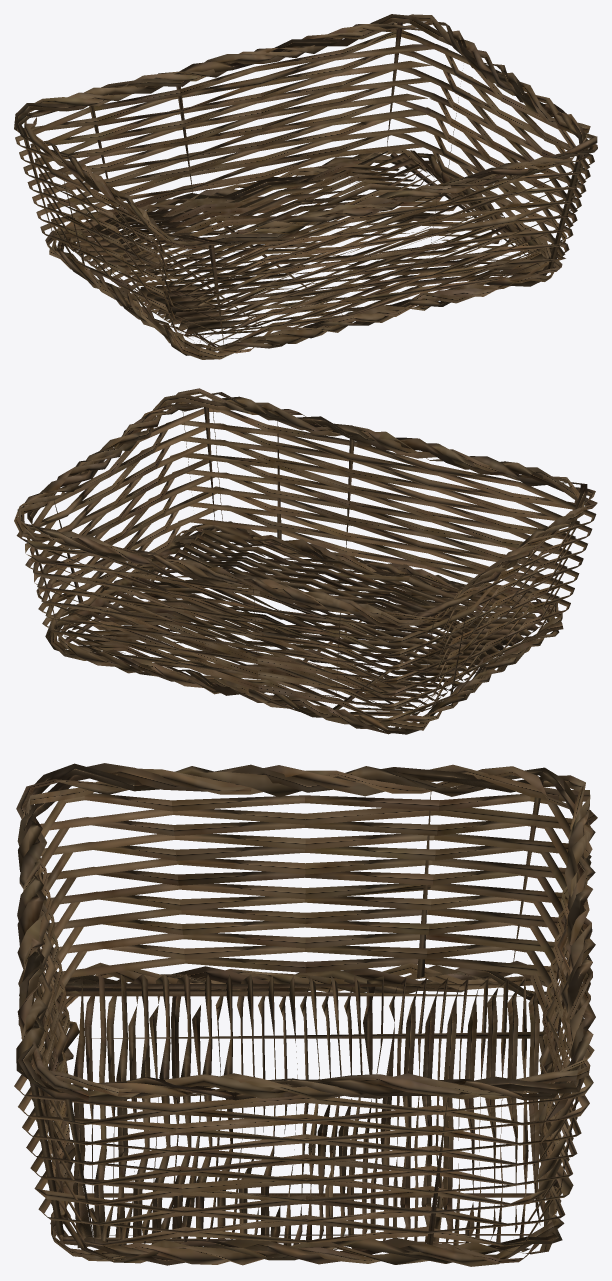
File: wicker_basket_01.gltf
3 views of the same model, one above another, from view 1: azimuth 30°, elevation 25°; view 2: azimuth 150°, elevation 25°; view 3: azimuth 270°, elevation 25° (orthographic). The views are drawn at different scales.
Visible parts, largest first — view 1: wicker_basket_01; view 2: wicker_basket_01; view 3: wicker_basket_01.
Boxes of the visible parts, box(x1,y1,x2,y2) form: wicker_basket_01: box(14, 14, 597, 359); wicker_basket_01: box(14, 388, 597, 734); wicker_basket_01: box(14, 763, 597, 1266).
Bounding box in the file's own units: 0.383 × 0.1174 × 0.2939.
1 material, 1 textured.
